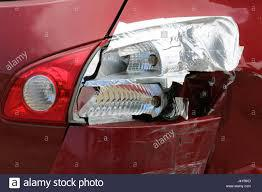Headlight-Damage: (73, 14, 245, 133)
